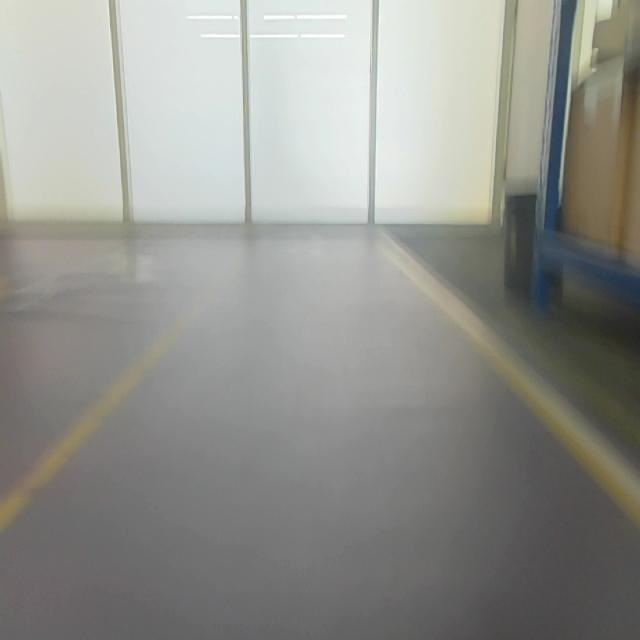left_lane: (0, 281, 210, 533)
right_lane: (383, 243, 640, 527)
